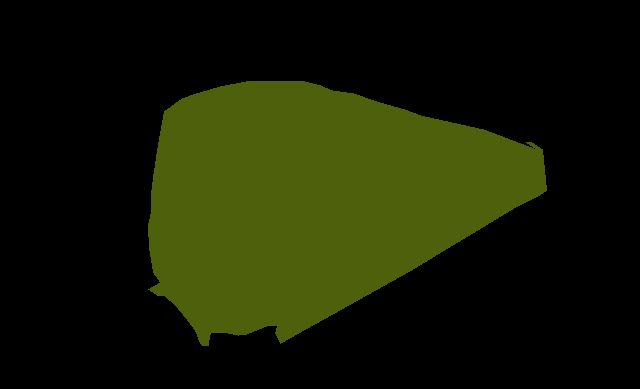Train: (148, 81, 546, 346)
